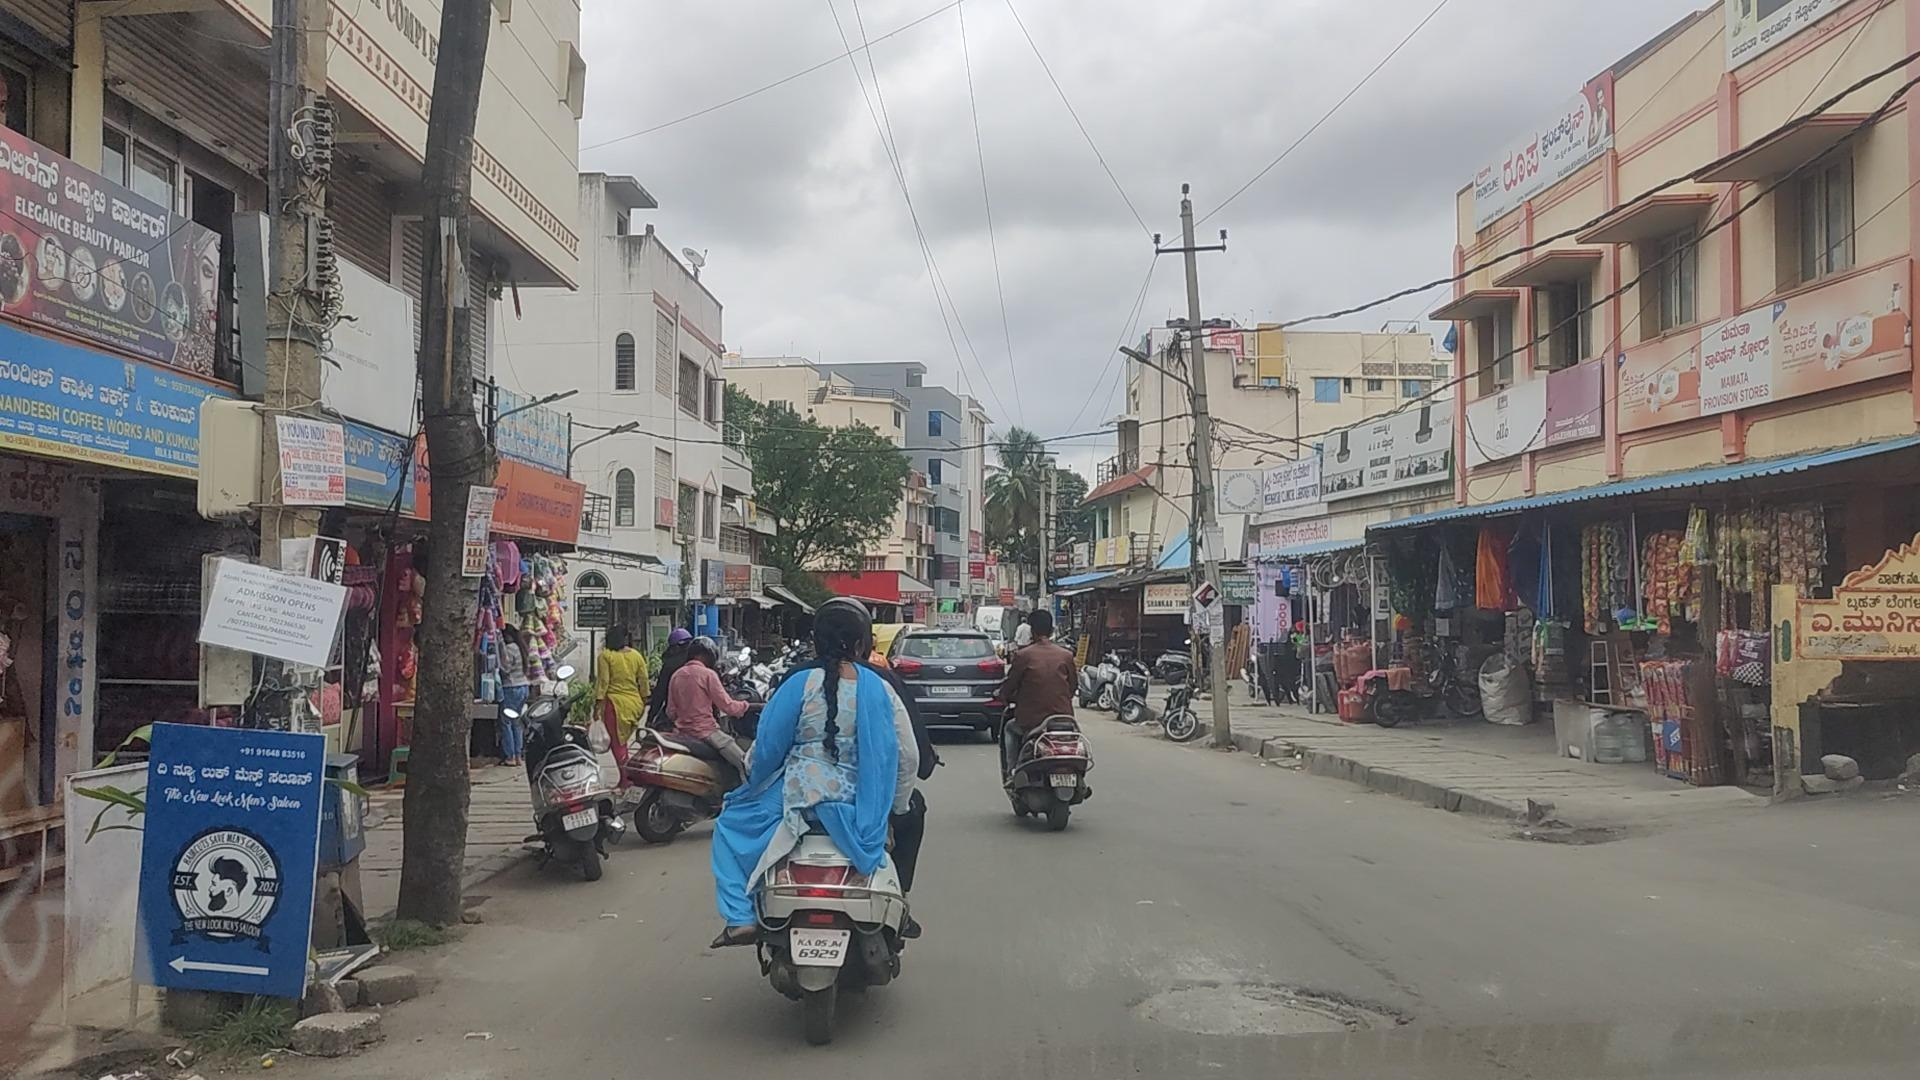LMV: (758, 599, 898, 1025), (1007, 607, 1097, 847)
RoadDamages: (1126, 945, 1431, 1055)
